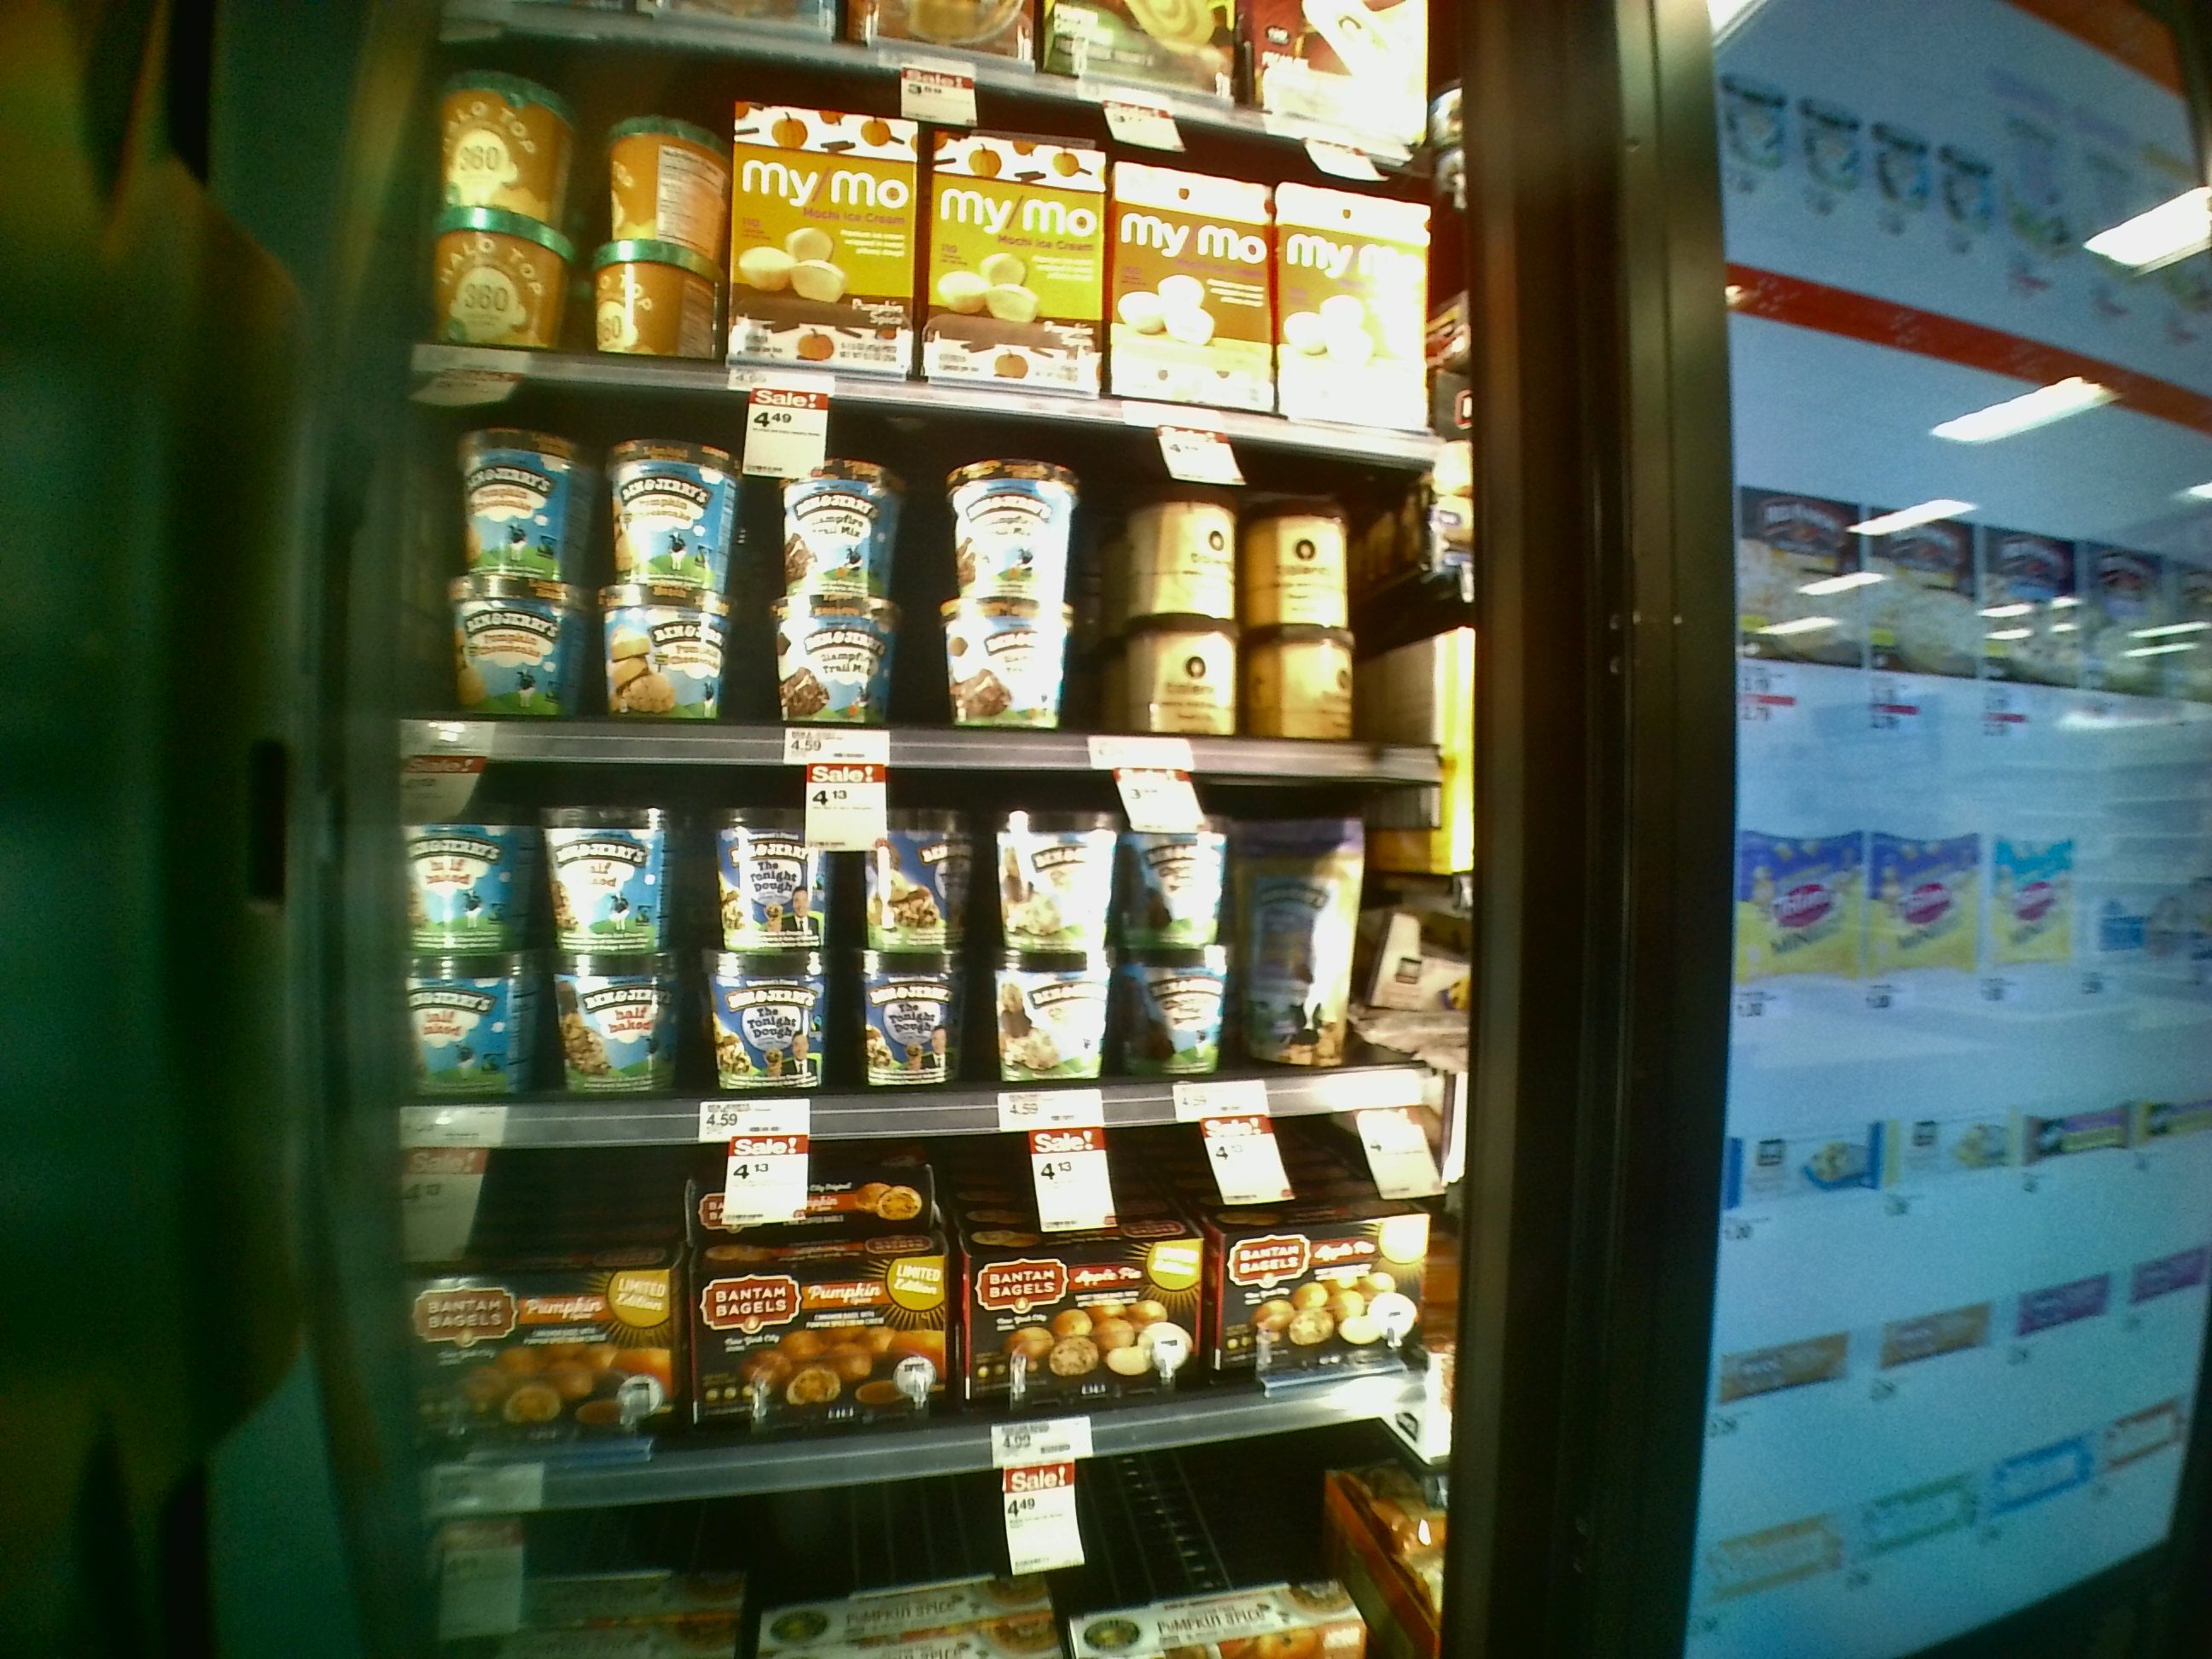shelf: (397, 373, 1444, 788), (380, 755, 1470, 1127), (380, 1140, 1433, 1471)
